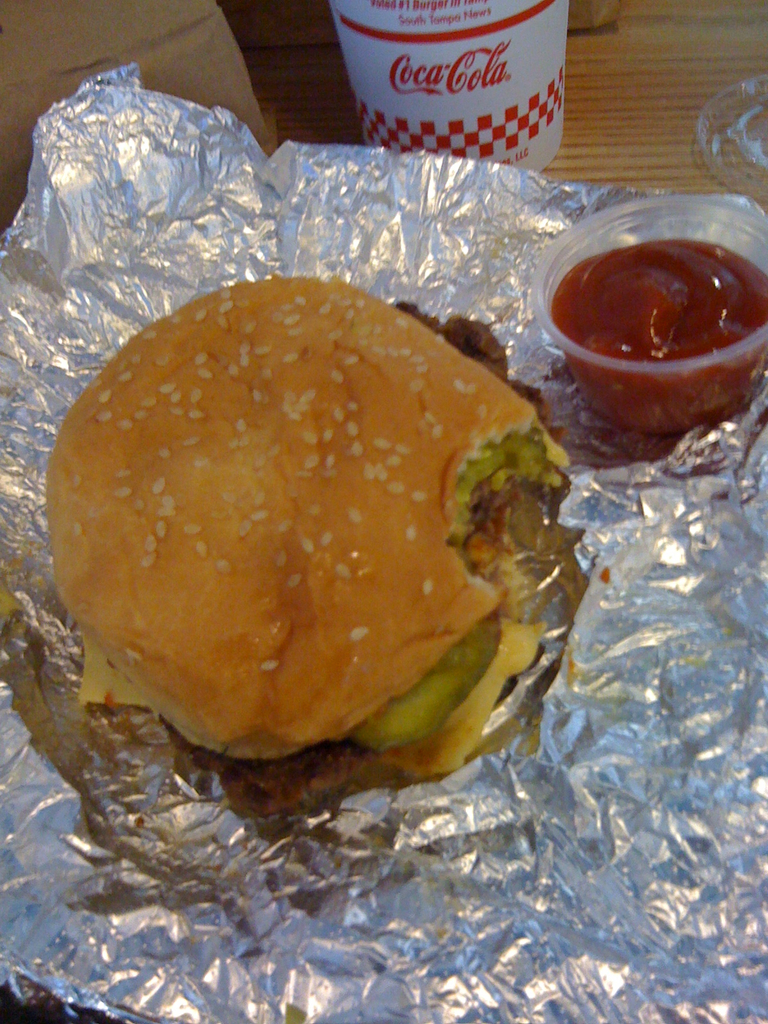Hamburger: (45, 273, 573, 776)
